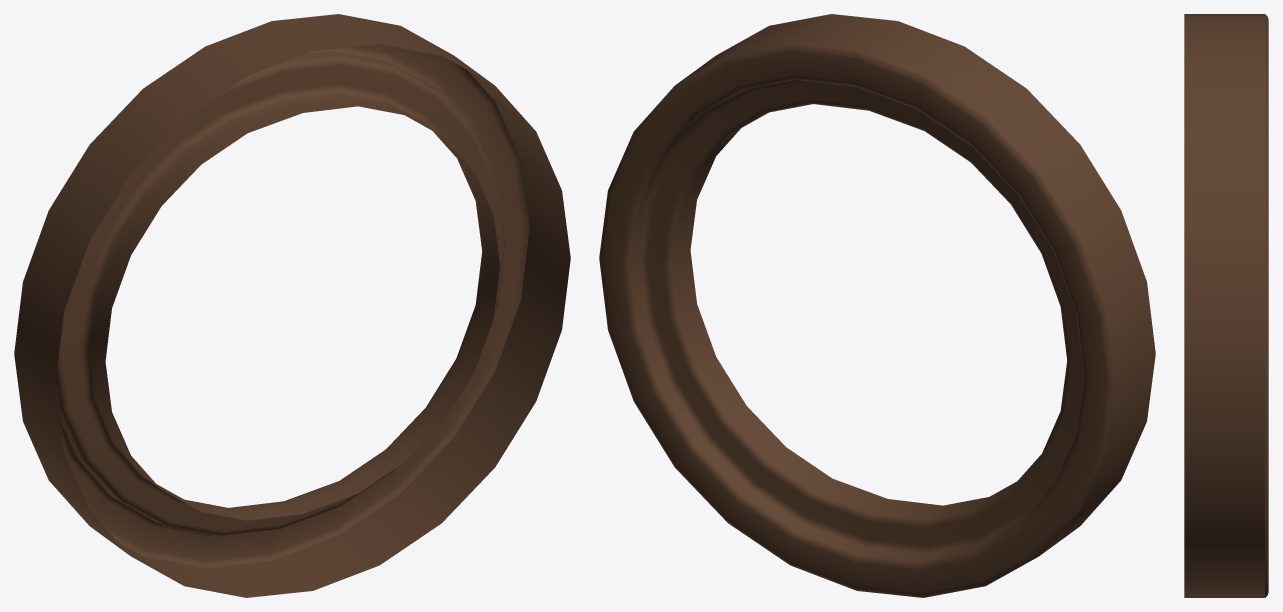
Rendered from WINDOW TRIM.fbx.
3 views of the same model, side by side, from view 1: azimuth 30°, elevation 25°; view 2: azimuth 150°, elevation 25°; view 3: azimuth 270°, elevation 25° (orthographic).
Visible parts, largest first — view 1: WINDOW TRIM; view 2: WINDOW TRIM; view 3: WINDOW TRIM.
Part boxes in pixels (left/top/right/bottom): WINDOW TRIM: left=14, top=14, right=570, bottom=597; WINDOW TRIM: left=599, top=14, right=1155, bottom=597; WINDOW TRIM: left=1184, top=14, right=1268, bottom=597.
Bounding box in the file's own units: 110 × 110 × 15.86.
